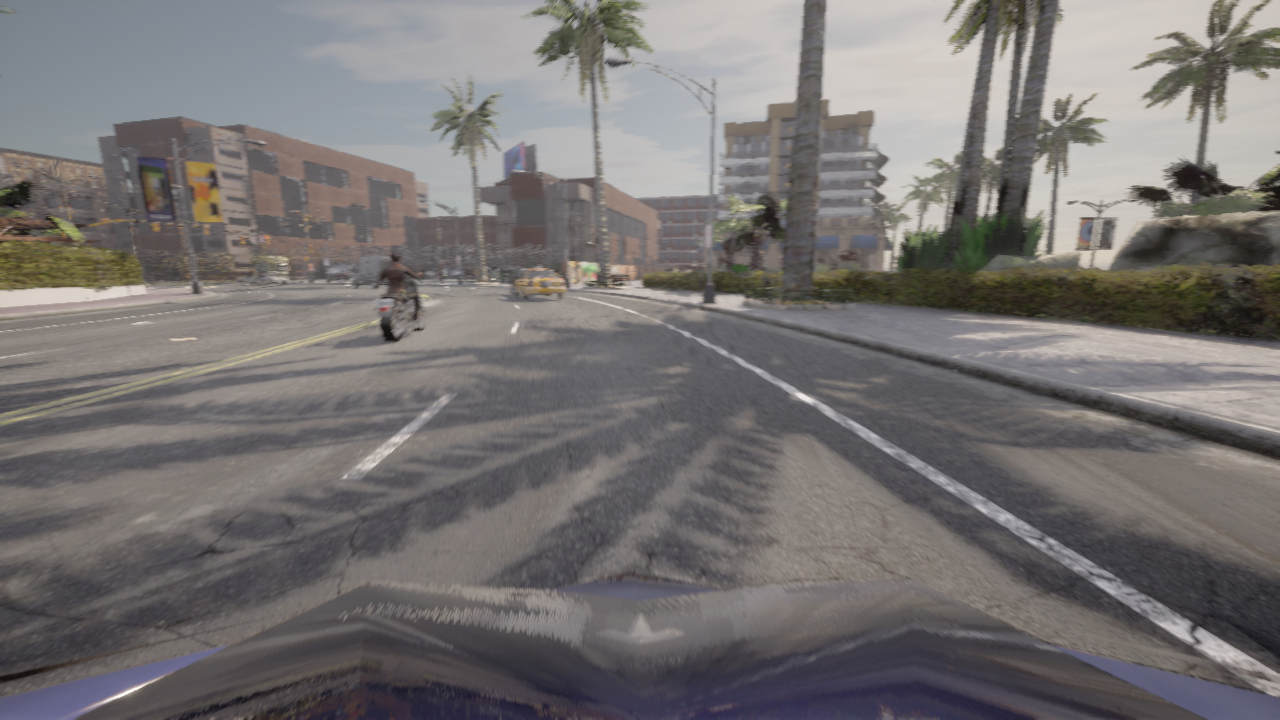cyclist: (0, 569, 1279, 719), (374, 270, 425, 341), (514, 265, 565, 299), (351, 256, 401, 288), (237, 273, 288, 285), (508, 269, 526, 294), (329, 264, 354, 279), (439, 266, 463, 277), (500, 266, 524, 276), (333, 270, 353, 280), (417, 273, 440, 279), (485, 265, 495, 271), (486, 271, 491, 277)
